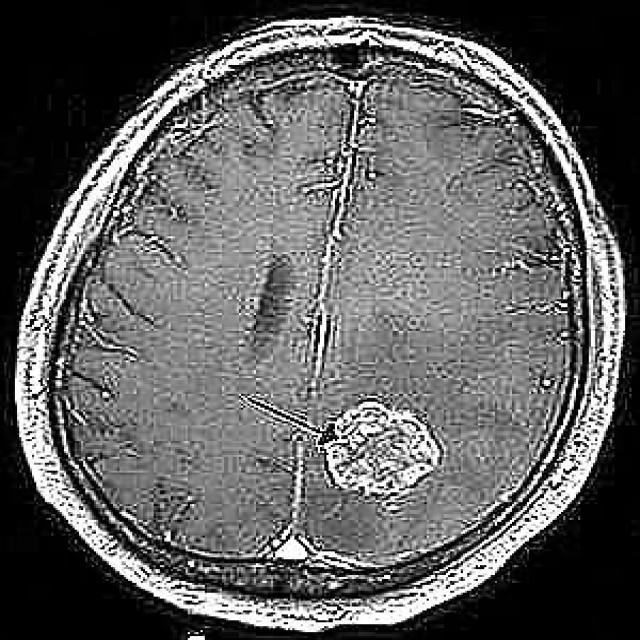Tumor: (323, 398, 450, 504)
